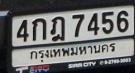num4: (16, 19, 30, 43)
txt01: (31, 17, 48, 41)
txt11: (49, 16, 67, 42)
